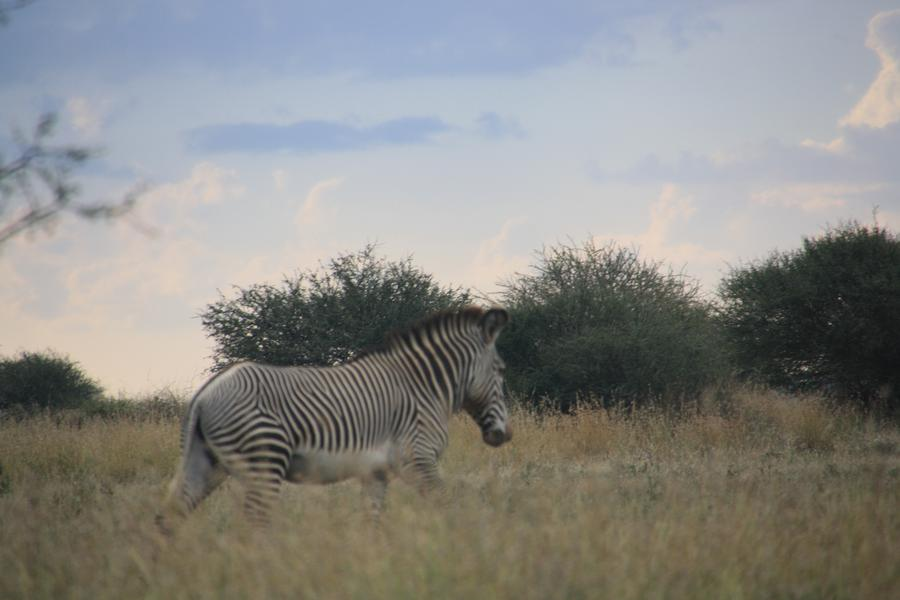zebra_grevys: (180, 345, 453, 461)
